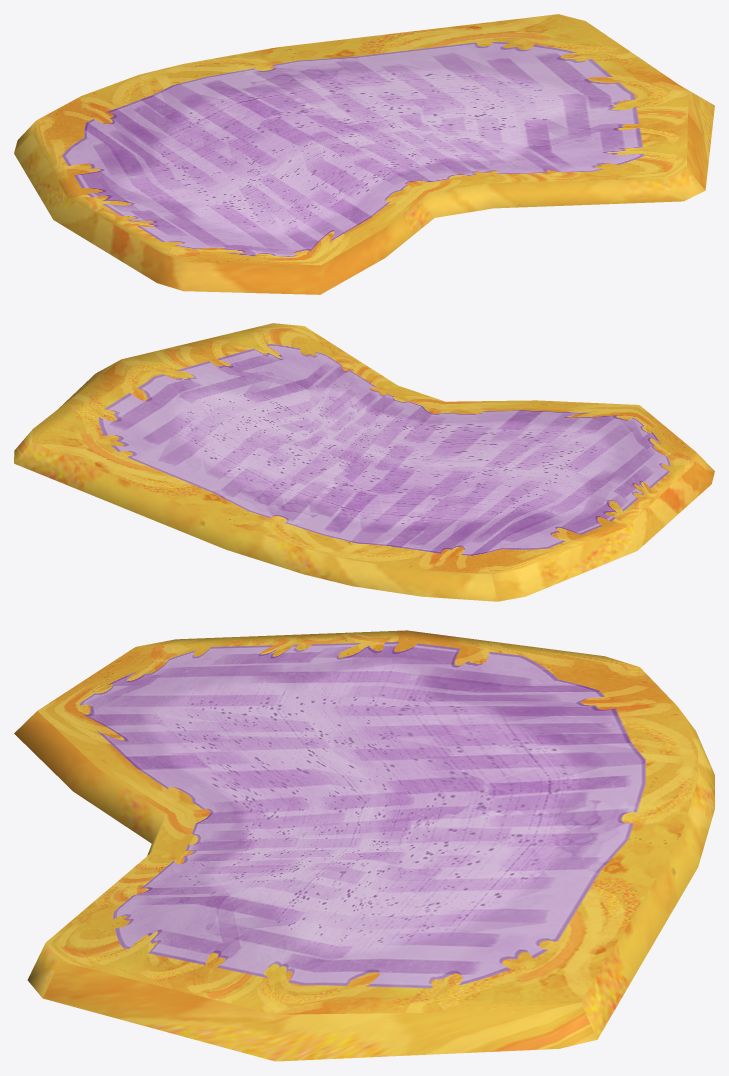
File: s0_Path_01__1__01.glb
The picture shows the model from 3 angles, top to bottom: view 1: azimuth 30°, elevation 25°; view 2: azimuth 150°, elevation 25°; view 3: azimuth 270°, elevation 25°; orthographic projection. The views are drawn at different scales.
Parts seen in each view (by area): view 1: node_Path_01 (1); view 2: node_Path_01 (1); view 3: node_Path_01 (1).
Part boxes in pixels (x1,y1,x2,y2): node_Path_01 (1): [14, 14, 714, 294]; node_Path_01 (1): [14, 323, 714, 601]; node_Path_01 (1): [14, 630, 714, 1061].
Size of what is drawn, in the model's own units: 6.33 by 0.2079 by 4.57.
1 material, 1 textured.
